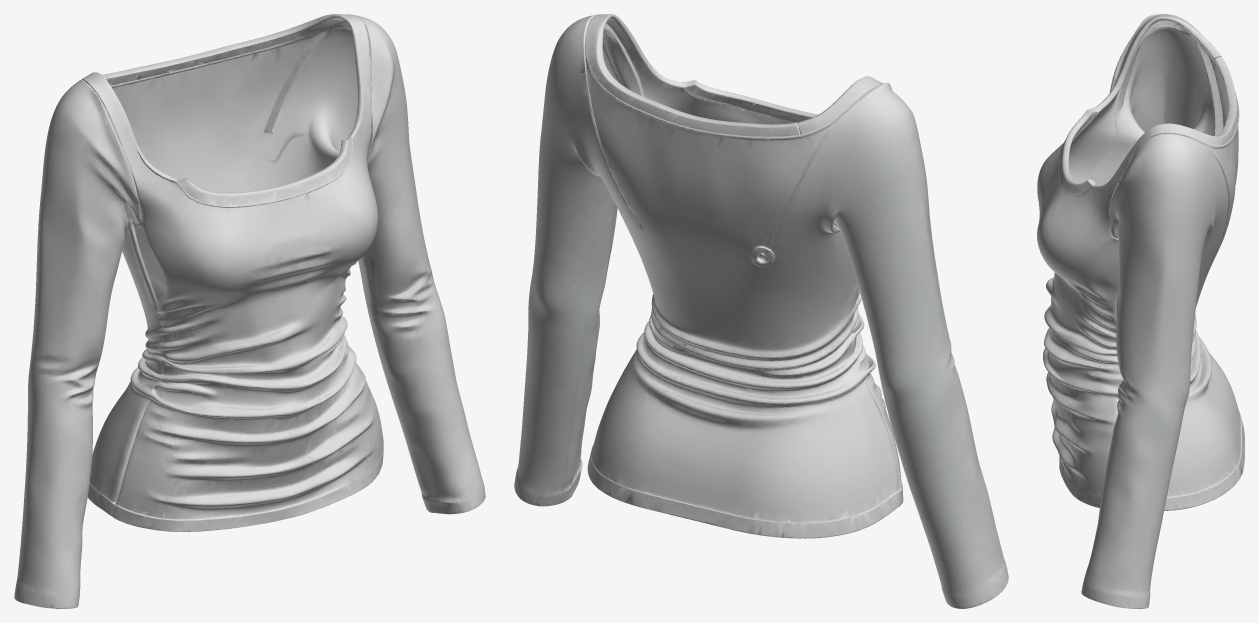
The picture shows the model from 3 angles, left to right: view 1: azimuth 30°, elevation 25°; view 2: azimuth 150°, elevation 25°; view 3: azimuth 270°, elevation 25°; orthographic projection. The views are drawn at different scales.
Parts seen in each view (by area): view 1: model; view 2: model; view 3: model.
Boxes of the visible parts, x1,y1,x2,y2 form: model: (14,14,485,608); model: (514,14,1008,608); model: (1037,14,1244,608).
Bounding box in the file's own units: 1.85 × 1.9 × 0.8018.
Materials: 1 (1 with a texture image).
